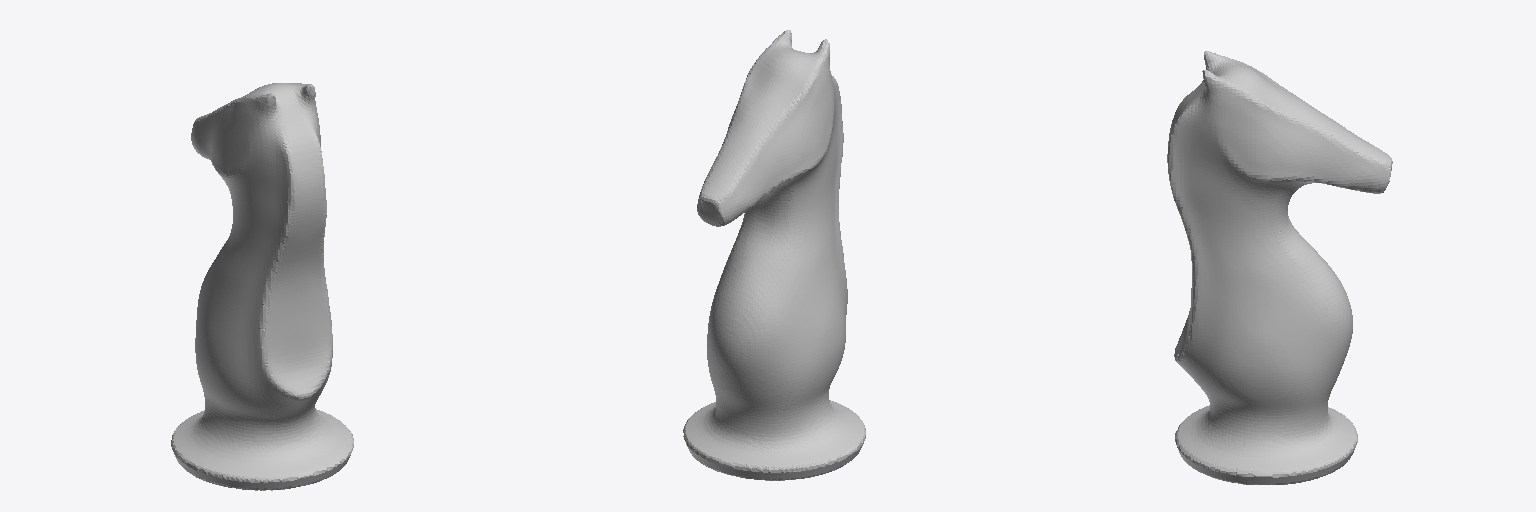
The model's file is Knight.obj.
3 views of the same model, side by side, from view 1: azimuth 30°, elevation 25°; view 2: azimuth 150°, elevation 25°; view 3: azimuth 270°, elevation 25° (orthographic).
Parts seen in each view (by area): view 1: Horse B.002; view 2: Horse B.002; view 3: Horse B.002.
Part boxes in pixels (x1,y1,x2,y2): Horse B.002: (171,83,353,490); Horse B.002: (683,30,865,480); Horse B.002: (1167,51,1392,484).
Bounding box in the file's own units: 2.13 × 4.99 × 2.62.